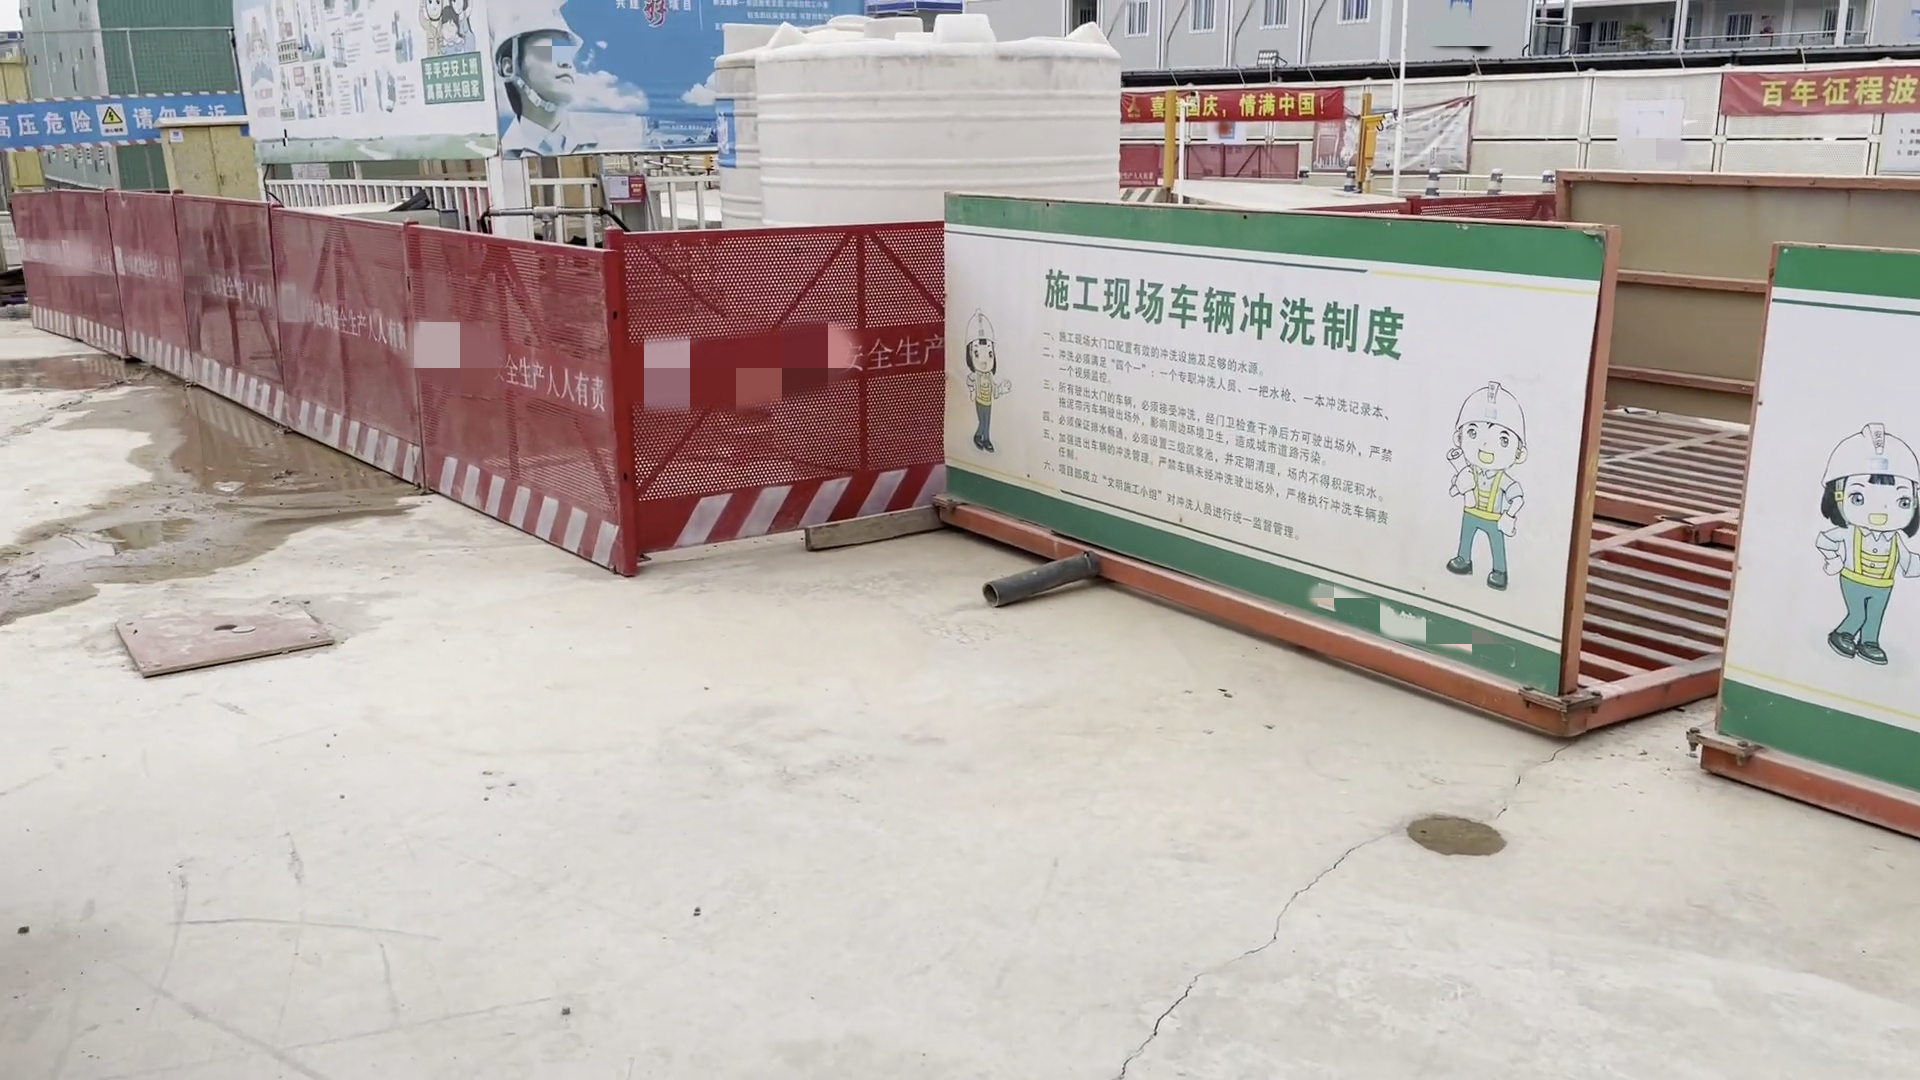fence: (40, 174, 659, 574)
slogan: (955, 208, 1569, 692), (1722, 59, 1920, 120), (1, 99, 222, 138), (1138, 88, 1333, 132), (280, 295, 406, 348), (497, 357, 607, 417), (819, 328, 942, 373), (421, 47, 481, 109), (200, 269, 281, 305), (119, 253, 182, 284)
